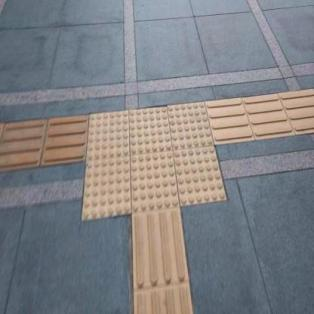Podoctatil: (63, 89, 247, 239), (130, 214, 198, 314), (215, 85, 314, 145), (0, 110, 87, 174)
